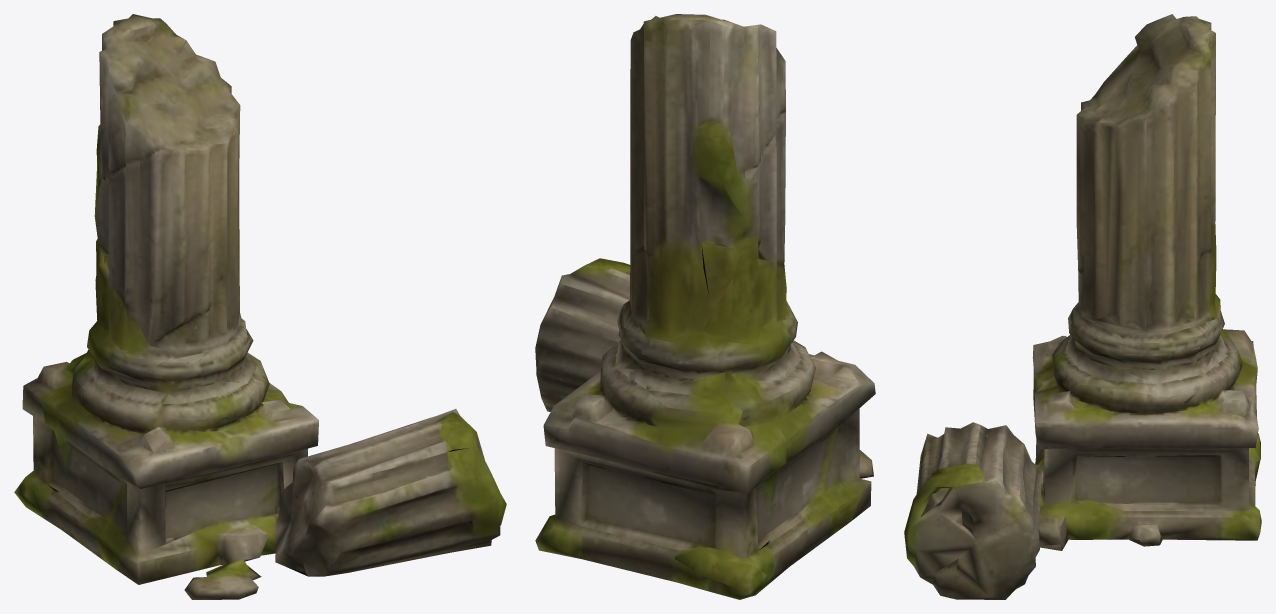
The model's file is ruins_column.glb.
3 renders of one model, left to right at view 1: azimuth 30°, elevation 25°; view 2: azimuth 150°, elevation 25°; view 3: azimuth 270°, elevation 25°, orthographic. The views are drawn at different scales.
Parts seen in each view (by area): view 1: ruins_column; view 2: ruins_column; view 3: ruins_column.
Boxes of the visible parts, x1=… form: ruins_column: x1=14, y1=14, x2=506, y2=599; ruins_column: x1=535, y1=14, x2=875, y2=599; ruins_column: x1=904, y1=14, x2=1261, y2=599.
Size of the model in its own units: 2.04 by 2.99 by 2.08.
1 material, 1 textured.
